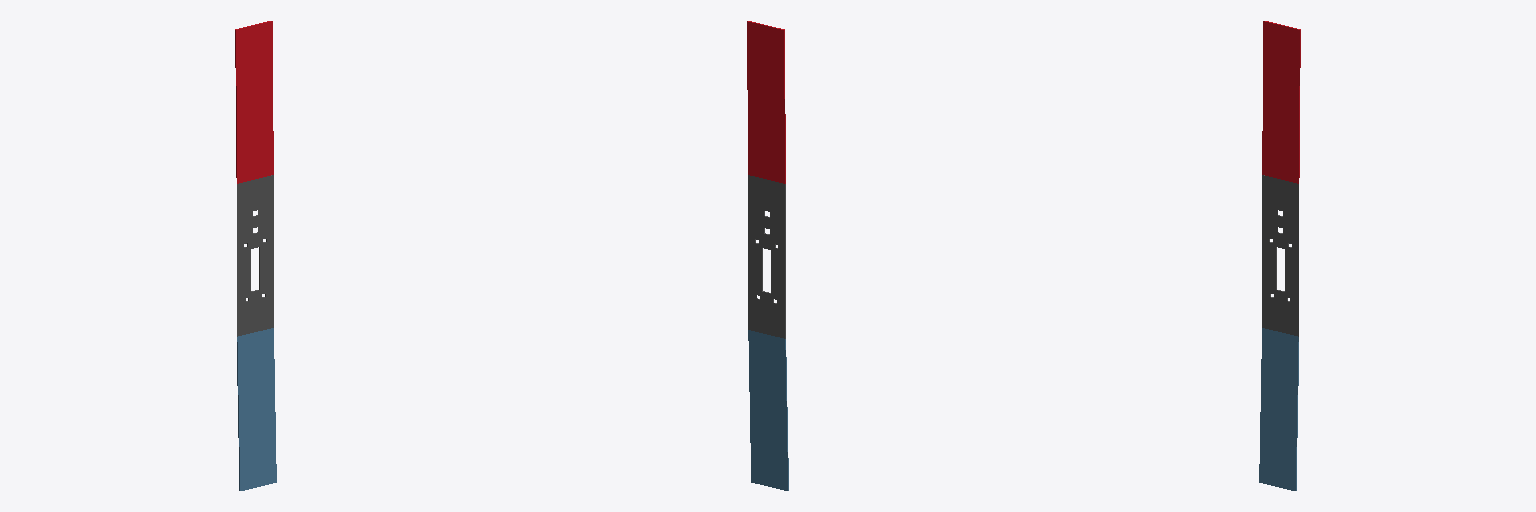
The robot description file, URDF, robot "Smarticle_v3":
<?xml version="1.0" encoding="utf-8"?>
<!-- This URDF was automatically created by SolidWorks to URDF Exporter! Originally created by [author] ([email redacted]) 
     Commit Version: 1.6.0-4-g7f85cfe  Build Version: 1.6.7995.38578
     For more information, please see http://wiki.ros.org/sw_urdf_exporter -->
<robot
  name="Smarticle_v3">
  <link
    name="base_linkv2">
    <contact>
        <lateral_friction value="0.5"/>
        <angular_friction value="0.5"/>
    </contact>
    <inertial>
      <origin
        xyz="-1.3731E-18 0.0004 0.00042795"
        rpy="0 0 0" />
      <mass
        value="0.0011628" />
      <inertia
        ixx="6.6584E-07"
        ixy="-6.5952E-26"
        ixz="-5.8643E-23"
        iyy="7.0794E-07"
        iyz="-2.635E-25"
        izz="4.2217E-08" />
    </inertial>
    <visual>
      <origin
        xyz="0 0 0"
        rpy="0 0 0" />
      <geometry>
        <mesh
          filename="../meshes/base_linkv2.STL" />
      </geometry>
      <material
        name="gray">
        <color
          rgba="0.4 0.4 0.4 1" />
      </material>
    </visual>
    <collision>
      <origin
        xyz="0 0 0"
        rpy="0 0 0" />
      <geometry>
        <mesh
          filename="../meshes/base_linkv2.STL" />
      </geometry>
    </collision>
  </link>
  <link
    name="arm_leftv2">
    <contact>
        <lateral_friction value="0."/>
    </contact>
    <inertial>
      <origin
        xyz="6.90984468435614E-18 -0.0018034471281212 -0.0399613260347562"
        rpy="0 0 0" />
      <mass
        value="0.00128" />
      <inertia
        ixx="6.82734933333333E-07"
        ixy="-7.90252557541997E-25"
        ixz="2.76515070788411E-23"
        iyy="7.24492732415157E-07"
        iyz="-2.39392195336763E-08"
        izz="4.35755342515089E-08" />
    </inertial>
    <visual>
      <origin
        xyz="0 0 0"
        rpy="0 0 0" />
      <geometry>
        <mesh
          filename="../meshes/arm_leftv2.STL" />
      </geometry>
      <material
        name="blue">
        <color
          rgba="0.36 0.54 0.66 1" />
      </material>
    </visual>
    <collision>
      <origin
        xyz="0 0 0"
        rpy="0 0 0" />
      <geometry>
        <mesh
          filename="../meshes/arm_leftv2.STL" />
      </geometry>
    </collision>
  </link>
  <joint
    name="servo_leftv2"
    type="revolute">
    <origin
      xyz="0 0.0008 -0.04"
      rpy="0 0 0" />
    <parent
      link="base_linkv2" />
    <child
      link="arm_leftv2" />
    <axis
      xyz="-1 0 0" />
    <limit
      lower="-1.57"
      upper="1.57"
      effort="0.01"
      velocity="0.52" />
  </joint>
  <link
    name="arm_rightv2">
    <contact>
        <lateral_friction value="0"/>
    </contact>
    <inertial>
      <origin
        xyz="-6.90108050025722E-17 0.000264935508284414 0.0400011225989529"
        rpy="0 0 0" />
      <mass
        value="0.00128" />
      <inertia
        ixx="6.82734933333333E-07"
        ixy="1.26744858659438E-24"
        ixz="3.33834202951877E-23"
        iyy="7.25144737478281E-07"
        iyz="-1.13445872780218E-08"
        izz="4.29235291883854E-08" />
    </inertial>
    <visual>
      <origin
        xyz="0 0 0"
        rpy="0 0 0" />
      <geometry>
        <mesh
          filename="../meshes/arm_rightv2.STL" />
      </geometry>
      <material
        name="red">
        <color
          rgba="0.83 0.13 0.18 1" />
      </material>
    </visual>
    <collision>
      <origin
        xyz="0 0 0"
        rpy="0 0 0" />
      <geometry>
        <mesh
          filename="../meshes/arm_rightv2.STL" />
      </geometry>
    </collision>
  </link>
  <joint
    name="servo_rightv2"
    type="revolute">
    <origin
      xyz="0 0.0008 0.04"
      rpy="0 0 0" />
    <parent
      link="base_linkv2" />
    <child
      link="arm_rightv2" />
    <axis
      xyz="-1 0 0" />
    <limit
      lower="-1.57"
      upper="1.57"
      effort="0.01"
      velocity="0.52" />
  </joint>
</robot>

--- Render facts (derived) ---
3 views of the same robot in one strip: view 1: azimuth 30°, elevation 25°; view 2: azimuth 150°, elevation 25°; view 3: azimuth 330°, elevation 25° (orthographic).
Robot: Smarticle_v3 — 3 links, 2 joints (2 revolute); root link base_linkv2; default pose: every joint at zero.
Visible links, largest first — view 1: arm_leftv2, arm_rightv2, base_linkv2; view 2: arm_rightv2, arm_leftv2, base_linkv2; view 3: arm_leftv2, arm_rightv2, base_linkv2.
Link boxes in pixels (box(x1,y1,x2,y2)): arm_leftv2: box(237, 328, 276, 490); arm_rightv2: box(235, 21, 273, 183); base_linkv2: box(237, 175, 273, 336); arm_rightv2: box(747, 21, 785, 183); arm_leftv2: box(748, 330, 788, 490); base_linkv2: box(748, 175, 785, 338); arm_leftv2: box(1259, 328, 1298, 490); arm_rightv2: box(1262, 21, 1300, 183); base_linkv2: box(1262, 175, 1298, 336).
Size in the robot's own frame: 0.02 by 0.0049 by 0.24 metres.
Meshes: 3 distinct files referenced, 3 mesh visuals loaded (3 binary STL).